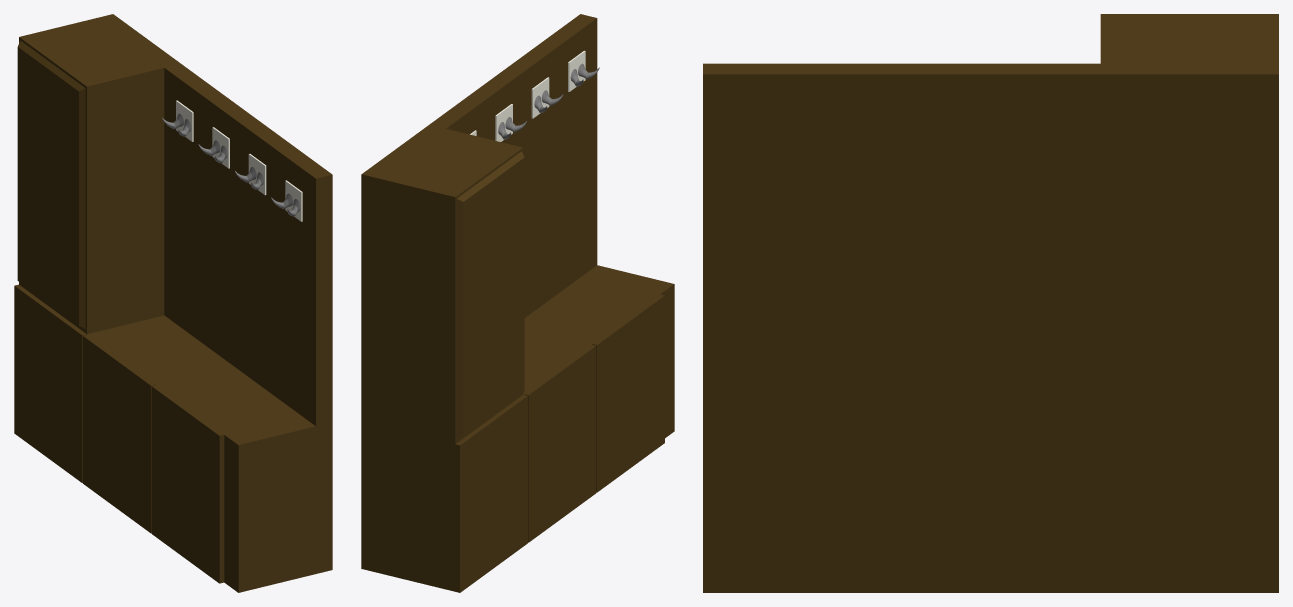
Rendered from ayakkabilik.fbx.
3 views of the same model, side by side, from view 1: azimuth 30°, elevation 25°; view 2: azimuth 150°, elevation 25°; view 3: azimuth 270°, elevation 25° (orthographic). The views are drawn at different scales.
Parts seen in each view (by area): view 1: Box001; view 2: Box001; view 3: Box001.
Part boxes in pixels (left/top/right/bottom): Box001: left=14, top=14, right=332, bottom=592; Box001: left=361, top=14, right=674, bottom=592; Box001: left=703, top=14, right=1278, bottom=592.
Bounding box in the file's own units: 42 × 160 × 162.
